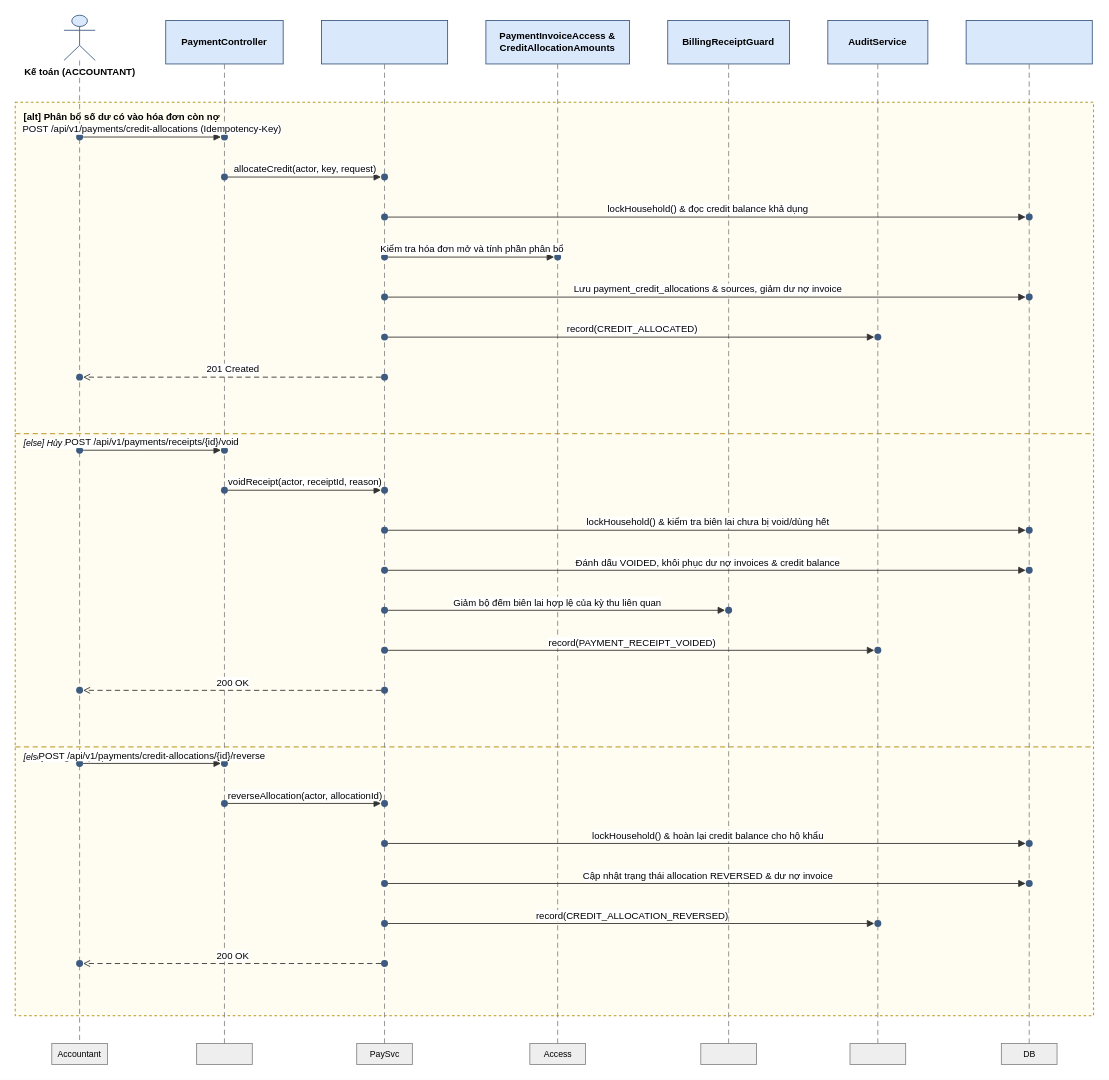
The diagram is 1109 pixels wide and 1080 high, and some of its shapes have lost their labels. Here are the shapes that lost their labels. From the top down, the centre of each, then its label:
At (384,42): "PaymentService (READ_COMMITTED)".
At (1028,42): "MySQL (payment_* / invoices)".
At (224,1053): "PayCtrl".
At (728,1053): "Guard".
At (877,1053): "Audit".
